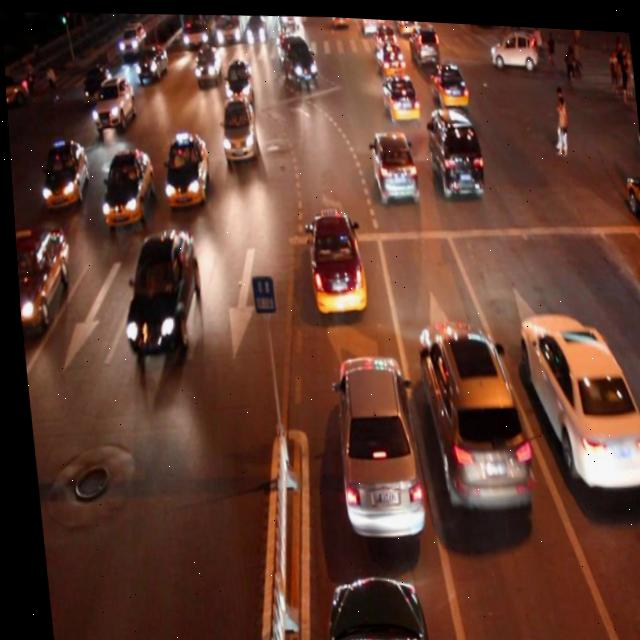car: (513, 301, 640, 484), (410, 314, 526, 508), (324, 346, 418, 535), (114, 228, 201, 357), (306, 568, 422, 640), (299, 204, 366, 312), (12, 223, 70, 332), (423, 100, 482, 193), (97, 148, 153, 223), (366, 123, 418, 202), (158, 132, 208, 207), (36, 138, 87, 210), (88, 74, 134, 131), (216, 95, 256, 160), (275, 32, 317, 84), (378, 67, 418, 119), (617, 151, 640, 239), (425, 56, 466, 103), (220, 57, 253, 99), (135, 41, 167, 80), (190, 42, 221, 80), (80, 63, 111, 98)
